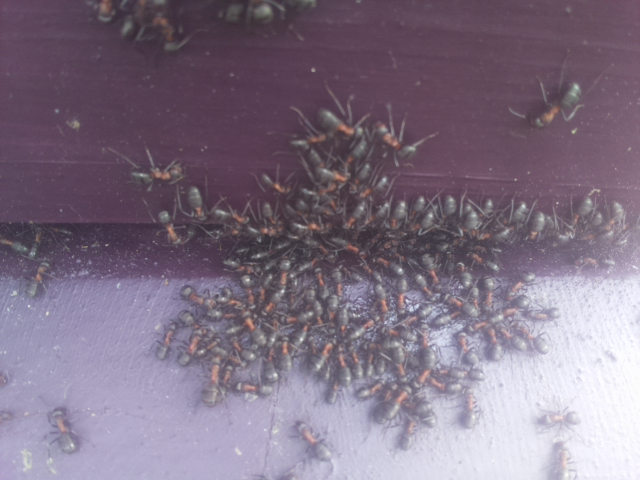ant: (519, 69, 590, 141), (546, 188, 610, 251), (285, 410, 343, 473), (365, 110, 424, 170), (305, 103, 373, 147), (369, 384, 431, 430), (171, 278, 229, 325), (118, 157, 188, 192), (265, 250, 298, 309), (503, 319, 553, 357), (171, 330, 218, 370), (43, 403, 79, 455), (199, 352, 230, 410), (22, 254, 57, 304), (320, 362, 355, 409), (154, 204, 189, 250), (516, 199, 548, 248), (148, 13, 185, 52), (255, 198, 288, 241), (151, 313, 180, 361), (529, 406, 583, 431), (179, 182, 212, 222), (231, 327, 259, 366), (393, 416, 422, 453), (308, 338, 333, 379), (254, 171, 295, 195), (459, 389, 480, 431), (418, 252, 443, 286), (552, 439, 573, 479), (237, 380, 277, 399)
